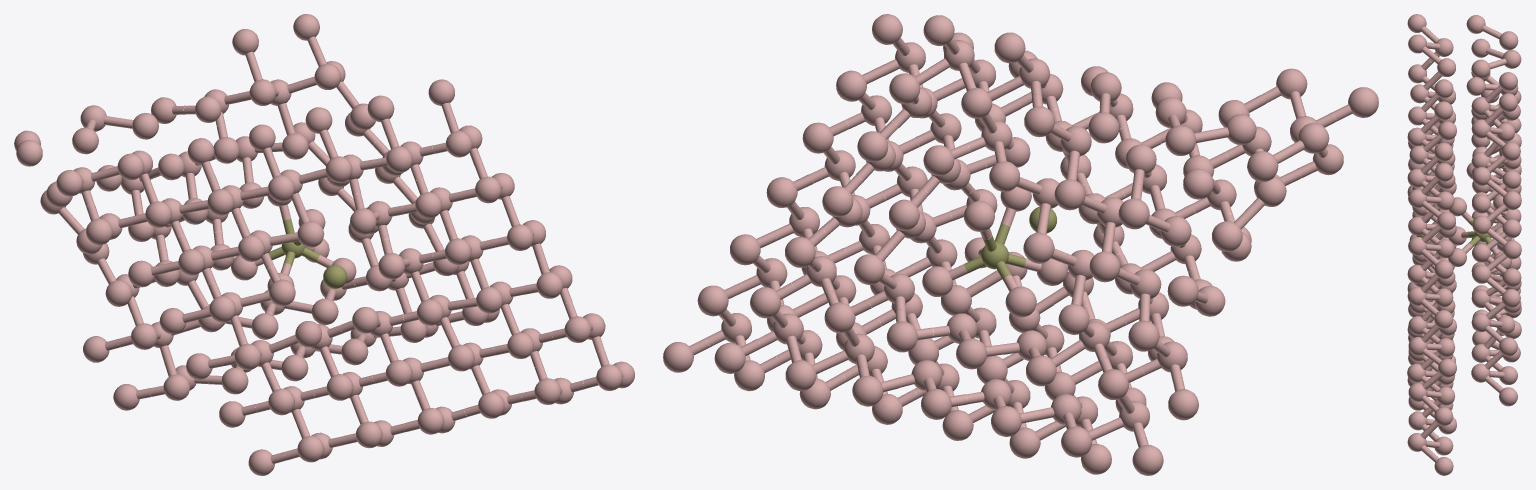
File: bimowP.glb
3 views of the same model, side by side, from view 1: azimuth 30°, elevation 25°; view 2: azimuth 150°, elevation 25°; view 3: azimuth 270°, elevation 25° (orthographic). The views are drawn at different scales.
Parts seen in each view (by area): view 1: vmd_mol0_rep1; view 2: vmd_mol0_rep1; view 3: vmd_mol0_rep1.
Boxes of the visible parts, x1,y1,x2,y2 form: vmd_mol0_rep1: (14, 14, 634, 475); vmd_mol0_rep1: (663, 14, 1378, 475); vmd_mol0_rep1: (1407, 14, 1521, 475).
Size of the model in its own units: 1.56 by 1.02 by 0.3675.
